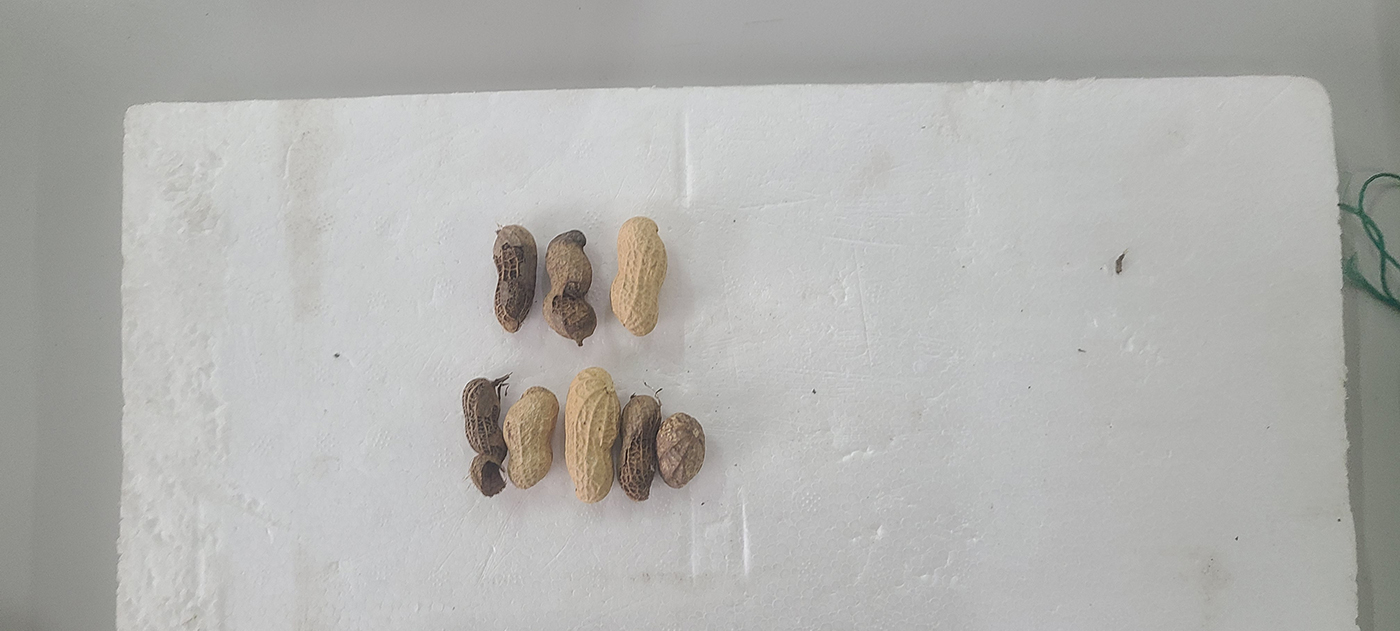h: (563, 366, 621, 504), (610, 216, 667, 336), (502, 385, 560, 489)
l: (543, 229, 597, 341), (461, 378, 507, 496), (492, 223, 537, 333), (616, 395, 661, 499), (655, 413, 706, 489)
